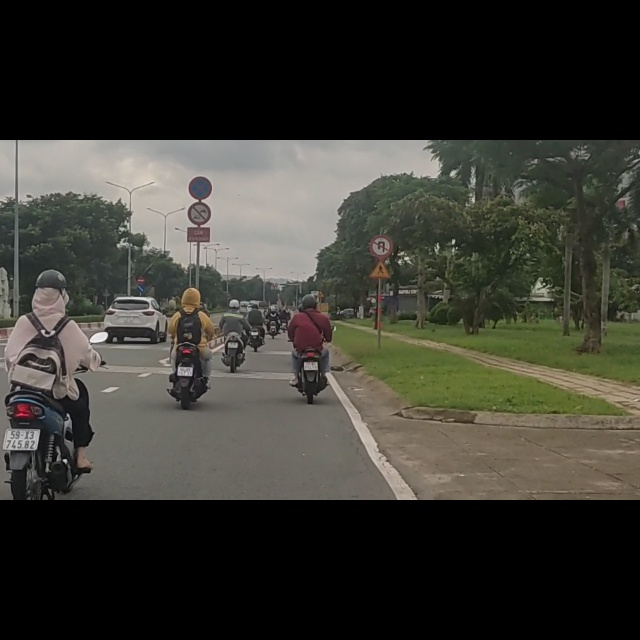bien_cam: (370, 166, 393, 209), (189, 64, 212, 107), (188, 111, 211, 151), (369, 215, 391, 248), (137, 257, 145, 271), (137, 242, 145, 255)
